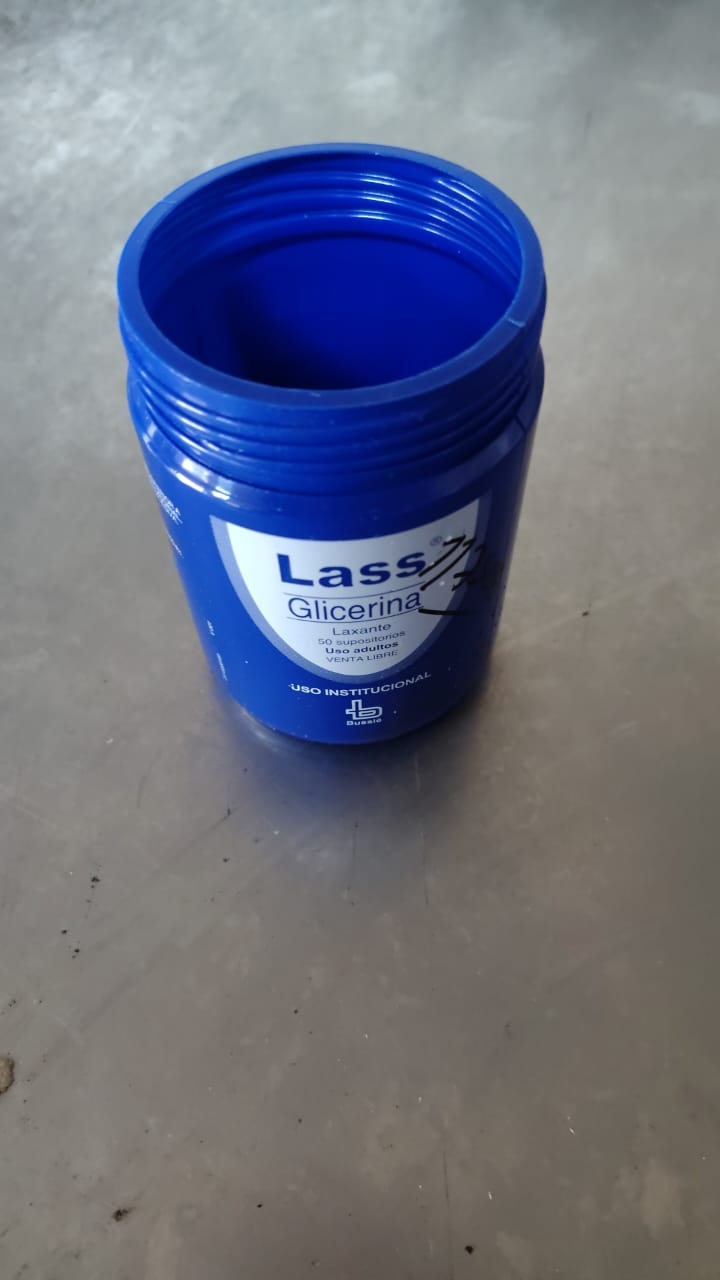Plastico: (112, 143, 546, 744)
